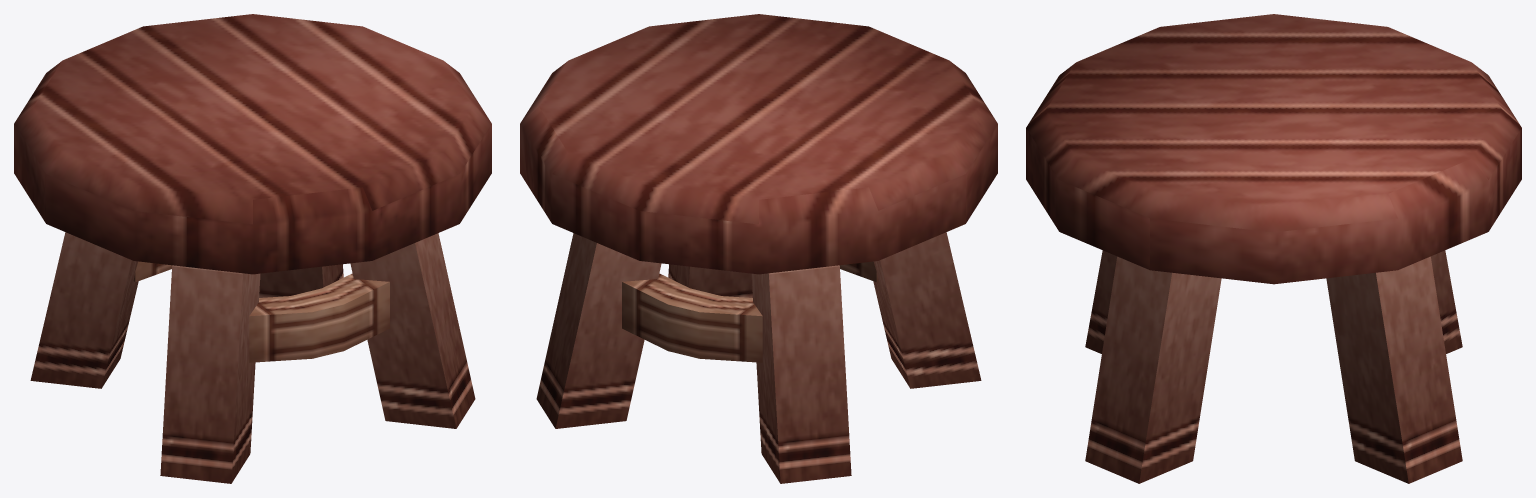
The model's file is Stool.fbx.
The picture shows the model from 3 angles, left to right: view 1: azimuth 30°, elevation 25°; view 2: azimuth 150°, elevation 25°; view 3: azimuth 270°, elevation 25°; orthographic projection. The views are drawn at different scales.
Parts seen in each view (by area): view 1: Stool; view 2: Stool; view 3: Stool.
Boxes of the visible parts, left/top/right/bottom form: Stool: left=14, top=14, right=491, bottom=483; Stool: left=520, top=14, right=997, bottom=483; Stool: left=1026, top=14, right=1521, bottom=483.
Bounding box in the file's own units: 260 × 170 × 260.
